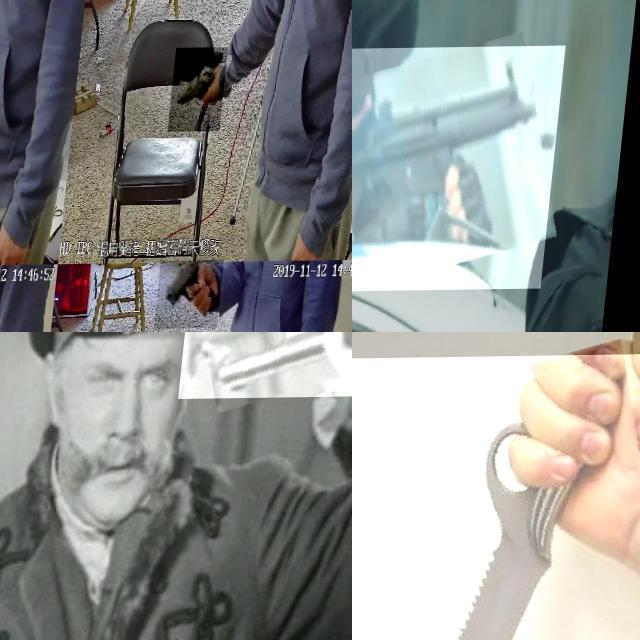-: (352, 355, 640, 640)
gun-knife-thesis - v11 Yolov5 augmented: (352, 47, 570, 293), (183, 332, 352, 446), (172, 48, 231, 134), (163, 261, 231, 330), (0, 39, 35, 120)
